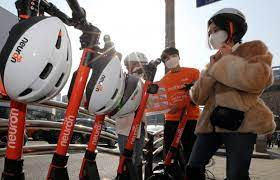kick_neck: (55, 50, 91, 174)
